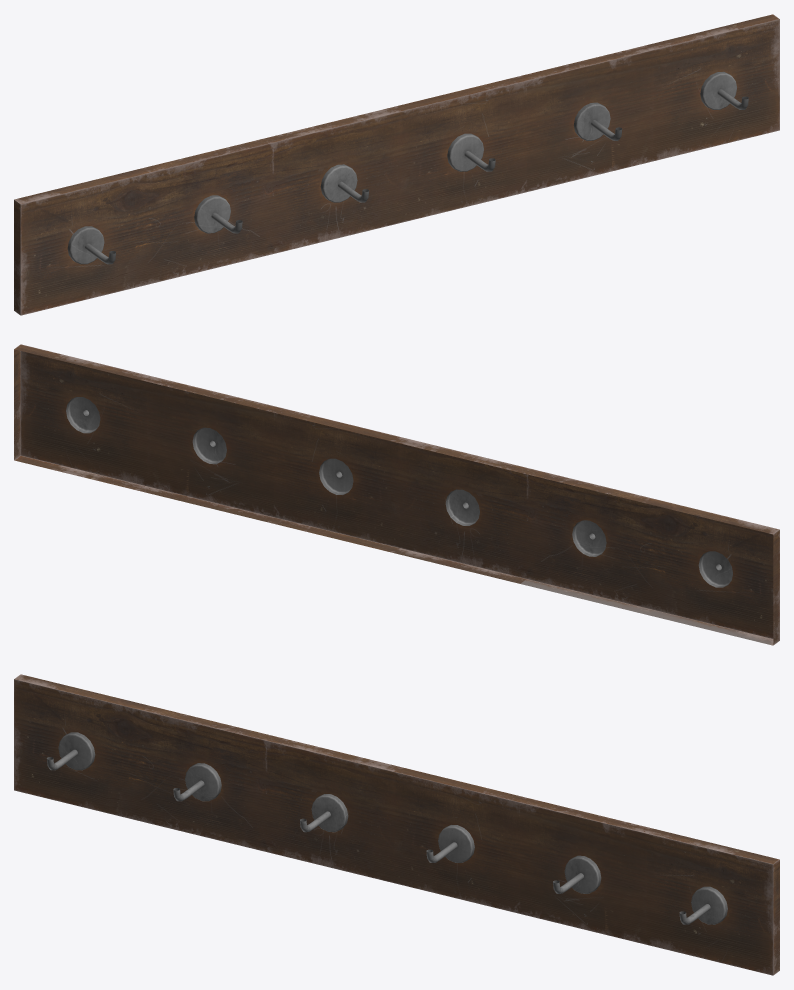
File: HookRack.fbx
3 renders of one model, top to bottom at view 1: azimuth 30°, elevation 25°; view 2: azimuth 150°, elevation 25°; view 3: azimuth 330°, elevation 25°, orthographic.
Parts seen in each view (by area): view 1: Object_4; view 2: Object_4; view 3: Object_4.
Part boxes in pixels (x1,y1,x2,y2): Object_4: (14, 14, 779, 315); Object_4: (14, 344, 779, 645); Object_4: (14, 674, 779, 975).
Size of the model in its own units: 90 by 12.59 by 7.48.
Materials: 1 (1 with a texture image).
